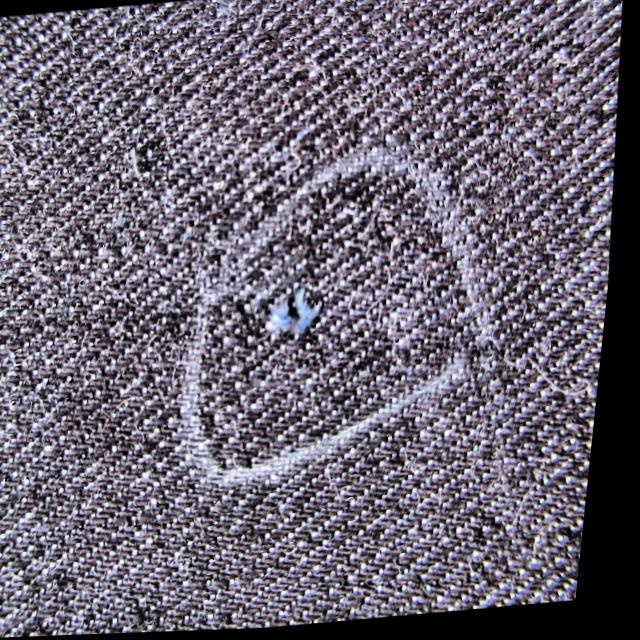Hole: (247, 268, 341, 365)
